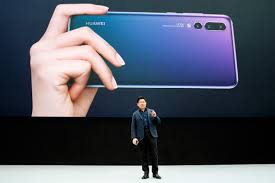huawei: (65, 9, 241, 90)
